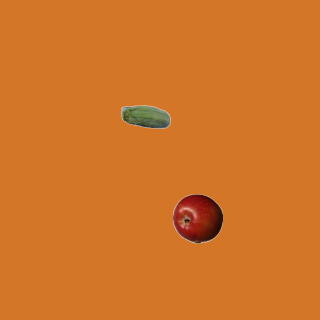Apple Braeburn: (172, 193, 222, 243)
Corn Husk: (120, 93, 170, 143)
